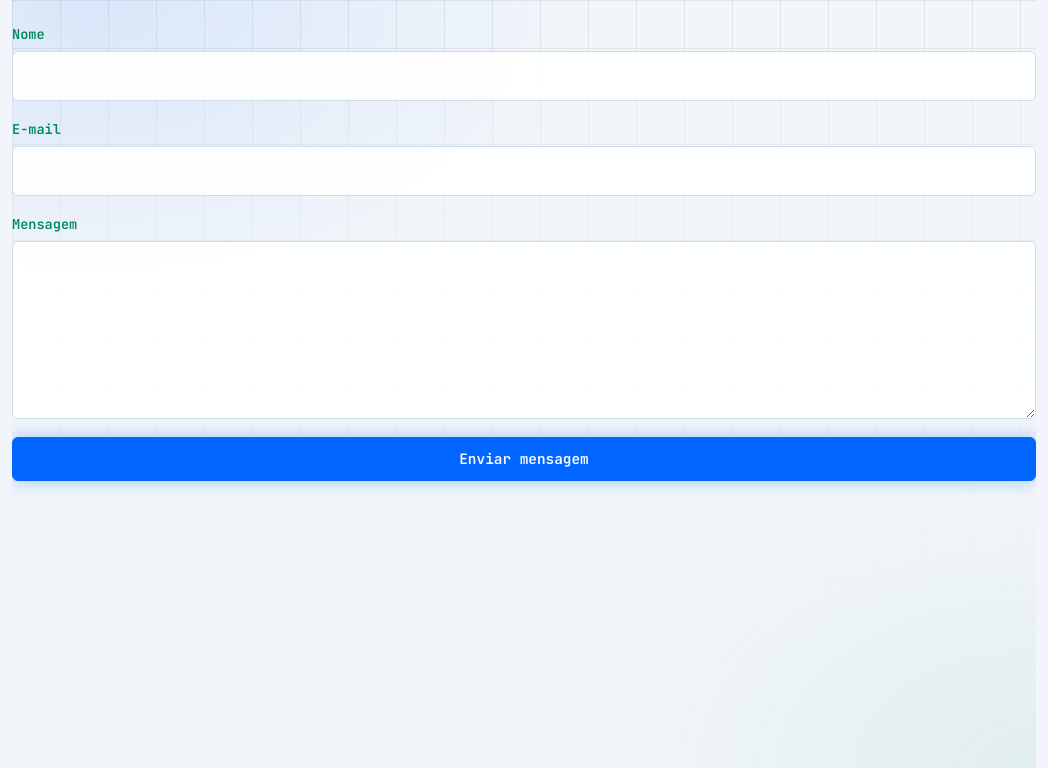
Test: ContactForm › mostra feedback de sucesso
Type "Maria Silva" into the field labelled "Nome".
click(524, 76); type("Maria Silva")  # box [12,51,1036,101]
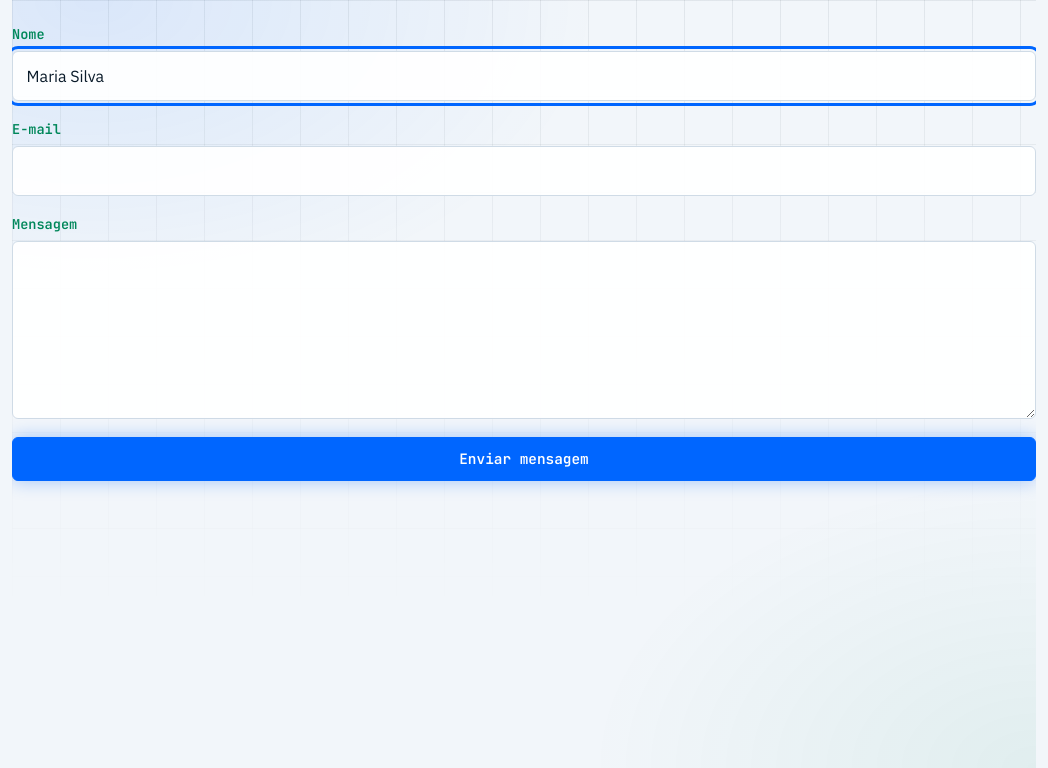
Type "maria@exemplo.com" into the field labelled "E-mail".
click(524, 171); type("maria@exemplo.com")  # box [12,146,1036,196]
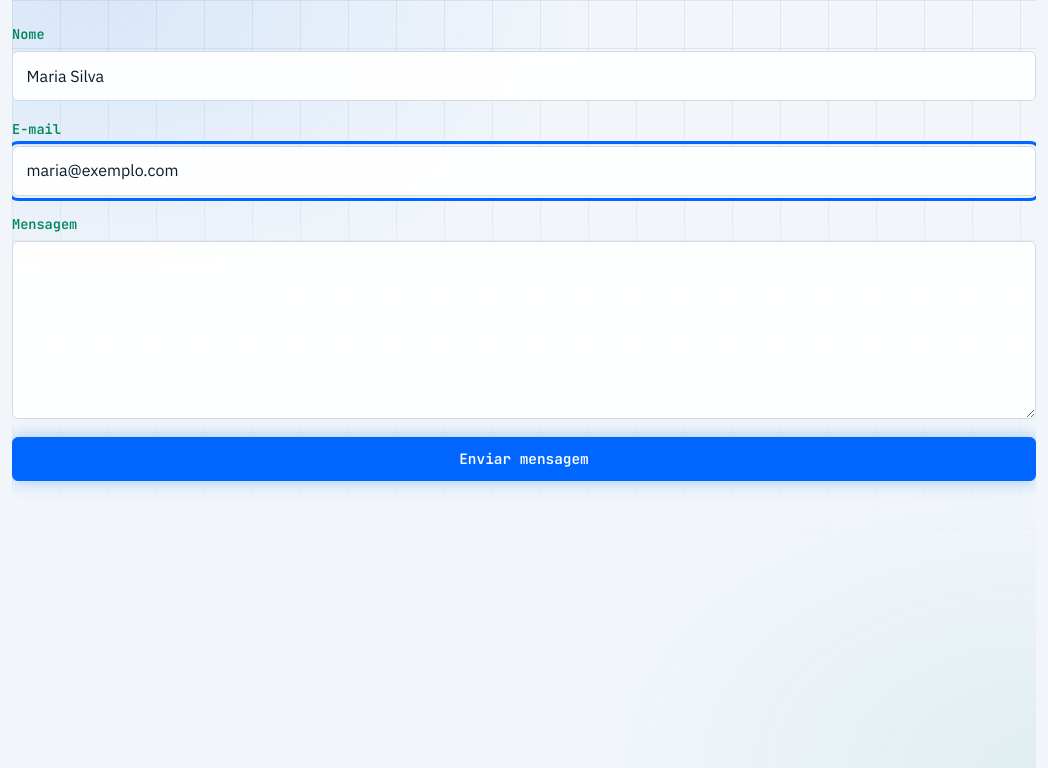
Type "Gostei muito do seu portfólio, vamos conversar?" into the text box labelled "Mensagem".
click(524, 330); type("Gostei muito do seu portfólio, vamos conversar?")  # box [12,241,1036,419]
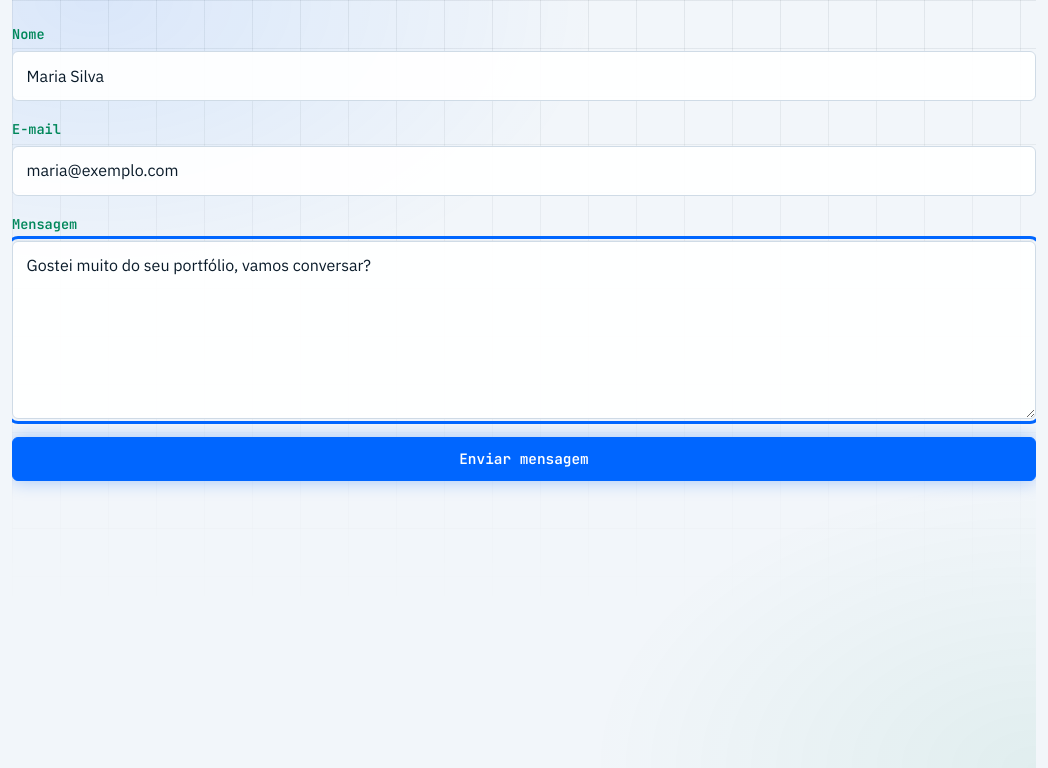
Click the button "Enviar mensagem".
click(524, 459)  # box [12,437,1036,481]
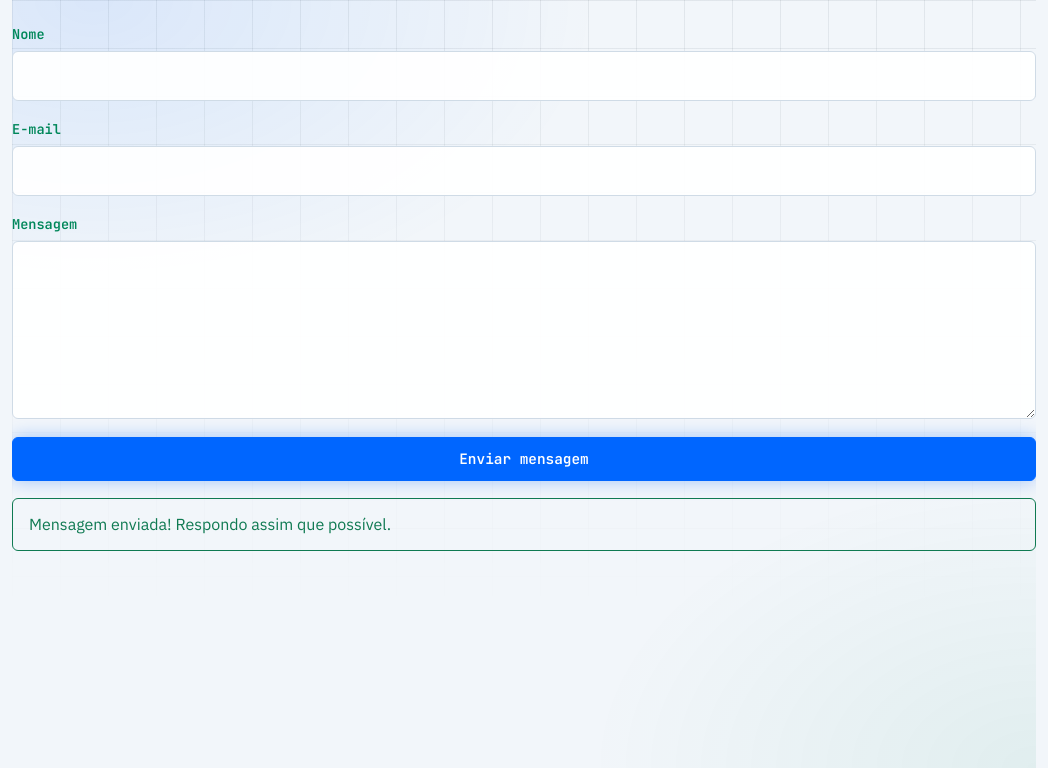
Expected: the text "Mensagem enviada! Respondo assim que possível." is shown, [12,498,1036,552]
